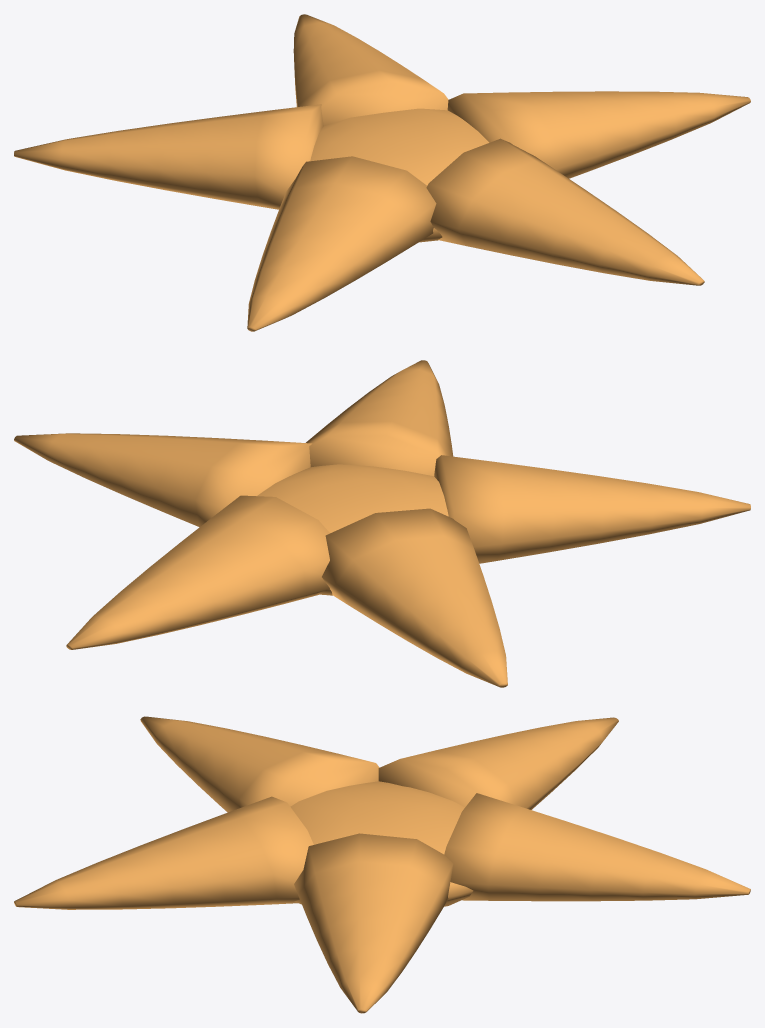
File: SM_Beach_05_Starfish.fbx
3 renders of one model, top to bottom at view 1: azimuth 30°, elevation 25°; view 2: azimuth 150°, elevation 25°; view 3: azimuth 270°, elevation 25°, orthographic. The views are drawn at different scales.
Parts seen in each view (by area): view 1: SM_Beach_05_Starfish; view 2: SM_Beach_05_Starfish; view 3: SM_Beach_05_Starfish.
Boxes of the visible parts, x1,y1,x2,y2 form: SM_Beach_05_Starfish: (14, 14, 750, 331); SM_Beach_05_Starfish: (14, 360, 750, 687); SM_Beach_05_Starfish: (14, 716, 750, 1013).
Size of the model in its own units: 30 by 4.26 by 31.82.
